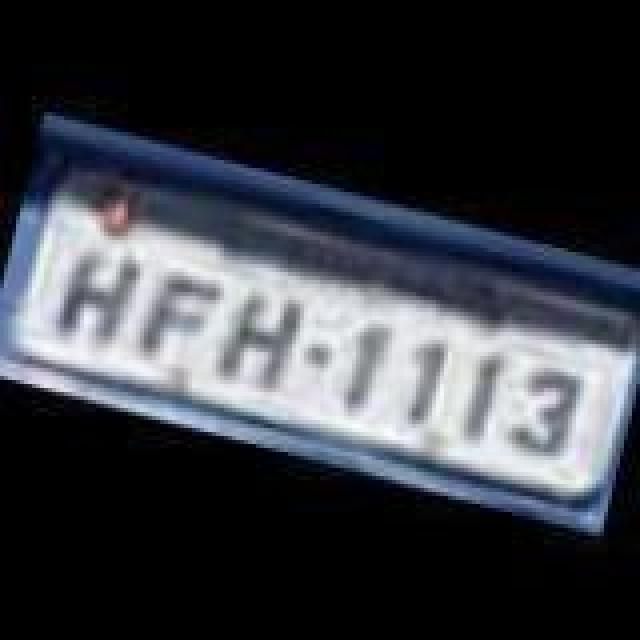1: (444, 340, 516, 448), (326, 310, 394, 418), (388, 324, 452, 436)
3: (504, 362, 584, 466)
F: (134, 268, 218, 376)
H: (208, 280, 304, 396), (50, 242, 142, 354)
